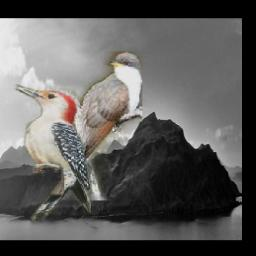Cuckoo: (53, 51, 141, 200)
Woodpecker: (12, 84, 90, 221)
